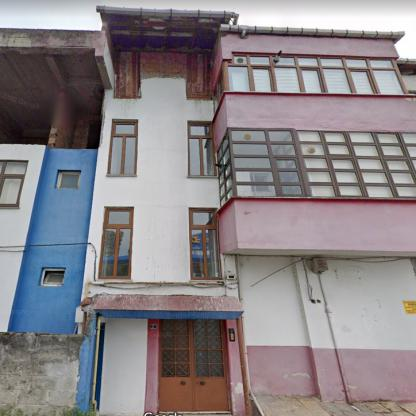door: (160, 320, 228, 412)
window: (230, 129, 415, 197), (226, 55, 407, 94), (100, 209, 131, 278), (190, 211, 218, 278), (108, 121, 137, 175), (187, 123, 216, 175), (216, 131, 234, 206), (0, 161, 28, 206), (212, 67, 224, 112), (40, 269, 63, 285), (57, 173, 79, 187)
